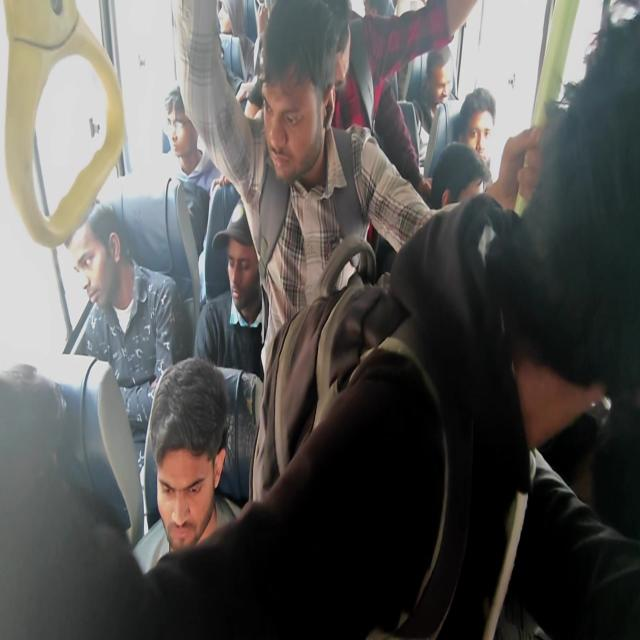person: (288, 354, 450, 633), (147, 362, 230, 556), (508, 333, 604, 458), (1, 364, 71, 490), (64, 199, 128, 319), (260, 61, 320, 182), (239, 0, 278, 117), (385, 1, 421, 103), (163, 83, 198, 163), (226, 232, 258, 310), (466, 103, 495, 166), (331, 8, 352, 90), (429, 59, 453, 106), (560, 80, 580, 105)
